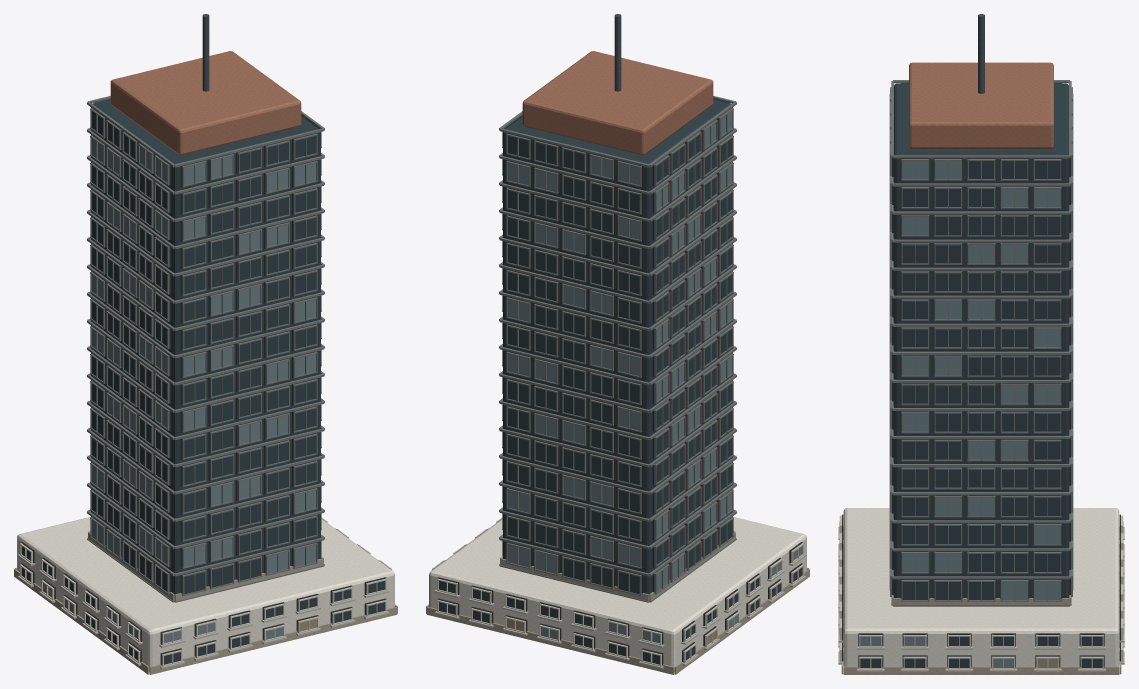
File: RES_TOWER_3x3_001.glb
3 views of the same model, side by side, from view 1: azimuth 30°, elevation 25°; view 2: azimuth 150°, elevation 25°; view 3: azimuth 270°, elevation 25° (orthographic). The views are drawn at different scales.
Parts seen in each view (by area): view 1: RES_TOWER_3x3_001_Visual; view 2: RES_TOWER_3x3_001_Visual; view 3: RES_TOWER_3x3_001_Visual.
Boxes of the visible parts, x1,y1,x2,y2 form: RES_TOWER_3x3_001_Visual: (14, 14, 397, 674); RES_TOWER_3x3_001_Visual: (426, 14, 809, 674); RES_TOWER_3x3_001_Visual: (838, 14, 1124, 674).
Size of what is drawn, in the model's own units: 4.71 by 10.2 by 4.44.
Materials: 11 (5 with a texture image).
